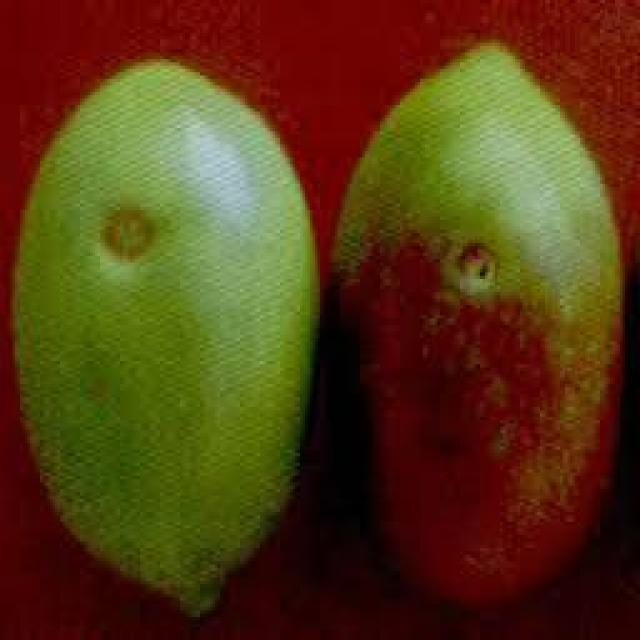Olive Fruit Fly: (12, 66, 315, 614), (338, 43, 620, 601)
